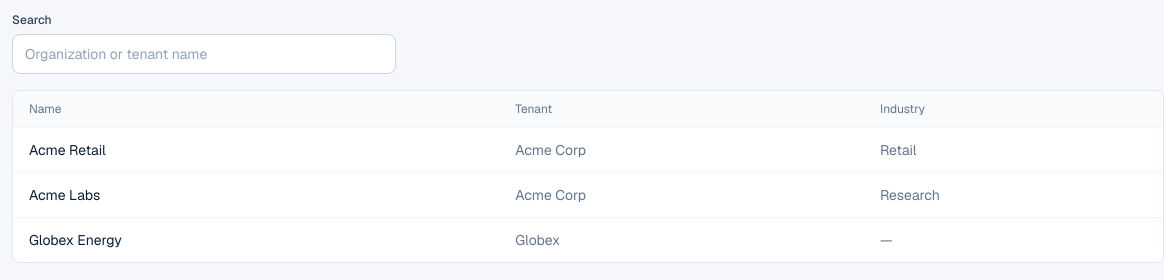
Scenario: OrganizationsTable › says when nothing matches the search
The width and height of the screenshot is (1164, 280).
Type "initech" into the search field labelled "Search". click: (204, 54)
box: [13,35,395,73]
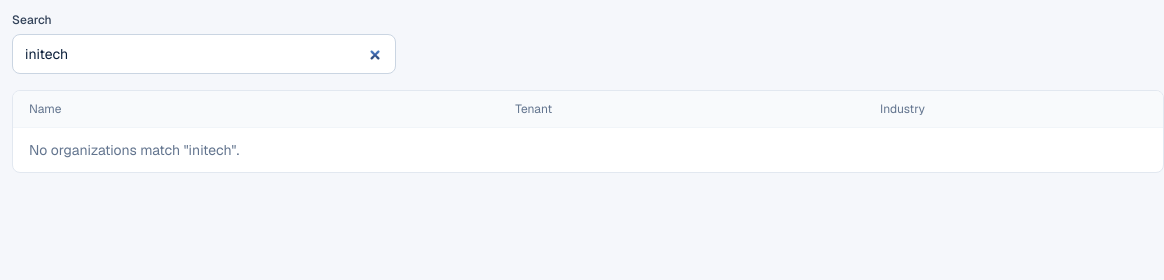
Check: the text "No organizations match \"initech\"." is shown, box [13,127,1163,172]
